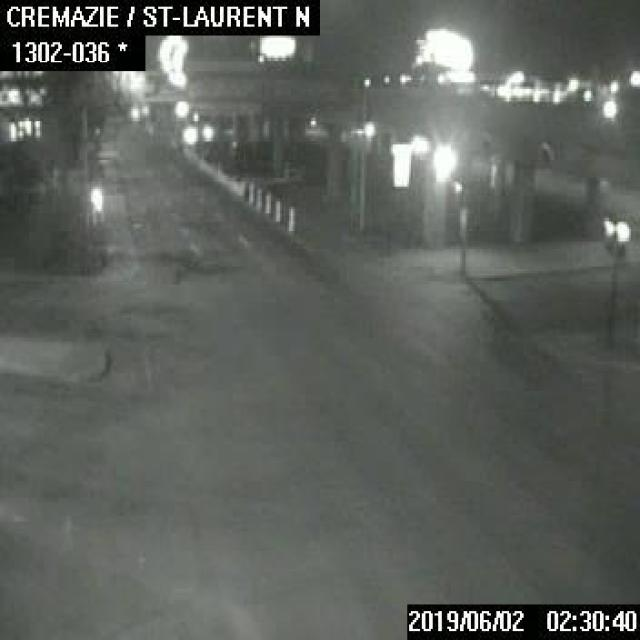construction: (285, 206, 293, 226), (274, 198, 280, 218), (248, 181, 254, 201), (256, 188, 262, 208), (264, 192, 270, 212)
